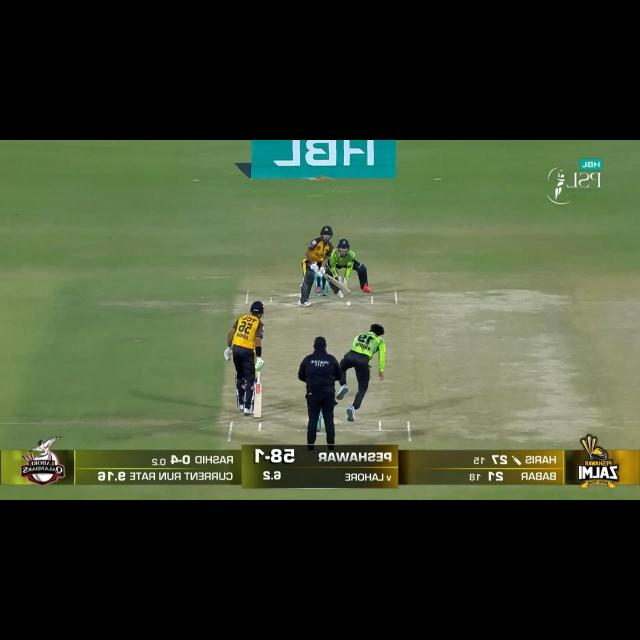bat: (321, 272, 352, 294), (254, 383, 262, 418)
toe: (252, 409, 263, 420), (342, 286, 351, 295)
